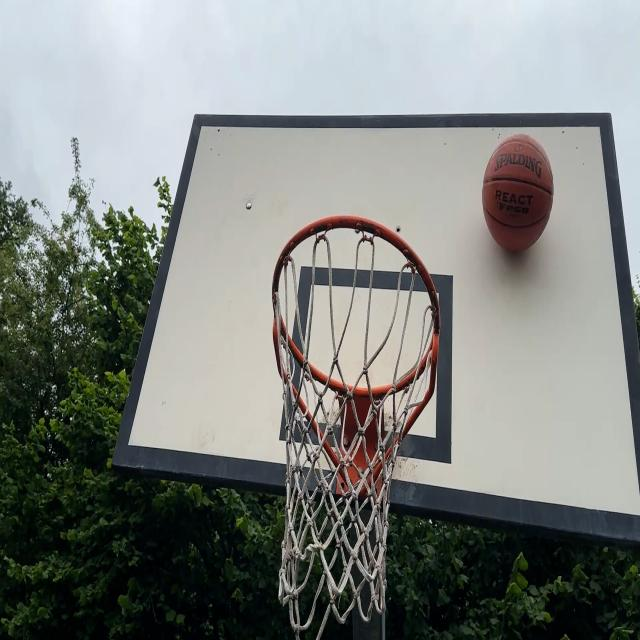rebound_hit: (479, 132, 558, 264)
